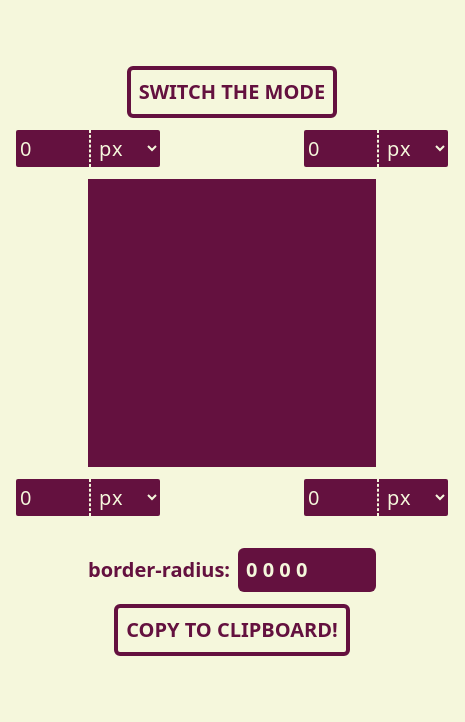
Scenario: App in advanced mode › should show the correct default value in the output field
Click the switch labelled "Switch the mode". click: (232, 92)
box: x1=127 y1=66 x2=337 y2=118
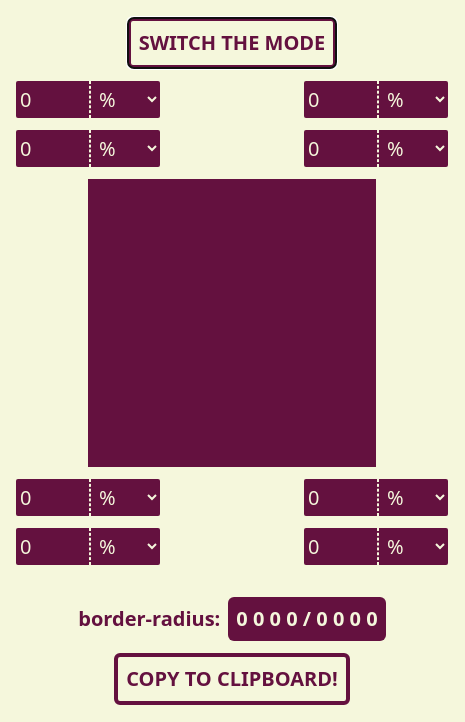
Now the text named "output" reads "0 0 0 0 / 0 0 0 0", box x1=236 y1=605 x2=378 y2=632
